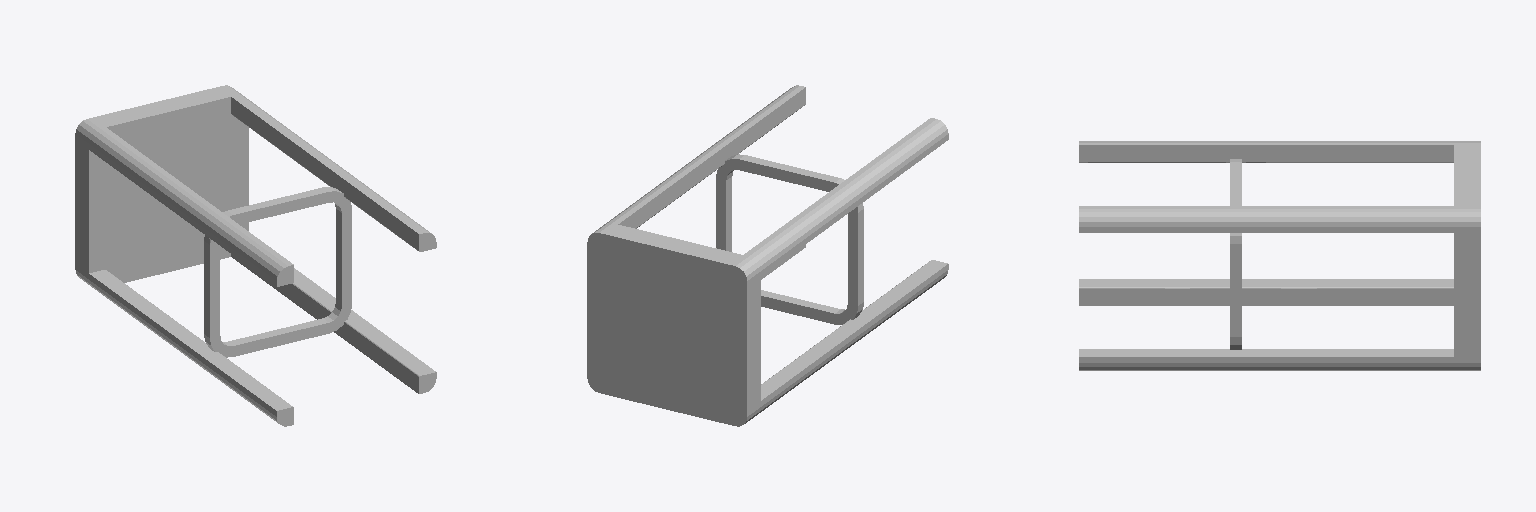
Rendered from chair_inches.obj.
The picture shows the model from 3 angles: view 1: azimuth 30°, elevation 25°; view 2: azimuth 150°, elevation 25°; view 3: azimuth 270°, elevation 25°; orthographic projection.
Parts seen in each view (by area): view 1: object_1; view 2: object_1; view 3: object_1.
Part boxes in pixels (bbox=[...]): object_1: bbox=[75, 85, 436, 426]; object_1: bbox=[587, 85, 948, 426]; object_1: bbox=[1079, 141, 1480, 370].
Size of the model in its own units: 13.75 by 13.17 by 30.